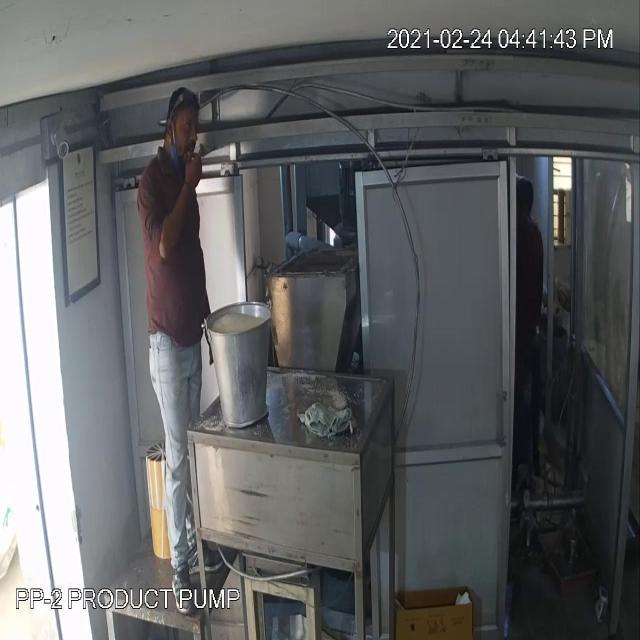no-helmet: (159, 85, 211, 142)
